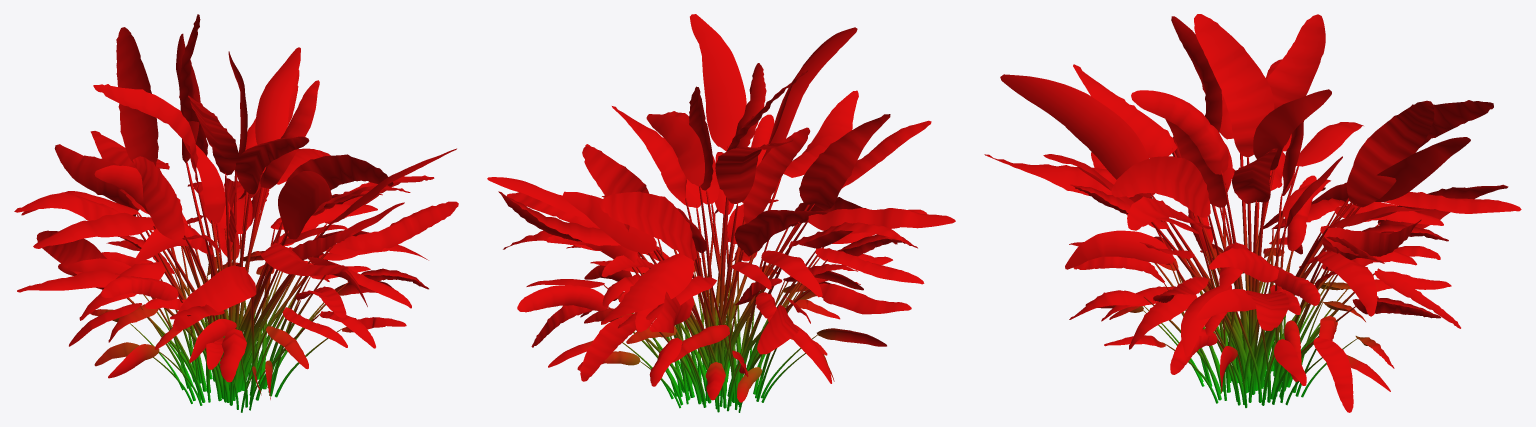
The model's file is Bird Of Paradise_LOD2_Var4_wfypeifha.fbx.
The picture shows the model from 3 angles, left to right: view 1: azimuth 30°, elevation 25°; view 2: azimuth 150°, elevation 25°; view 3: azimuth 270°, elevation 25°; orthographic projection. The views are drawn at different scales.
Visible parts, largest first — view 1: _9iir_Var4_LOD2; view 2: _9iir_Var4_LOD2; view 3: _9iir_Var4_LOD2.
Part boxes in pixels (left/top/right/bottom): _9iir_Var4_LOD2: left=14, top=14, right=458, bottom=412; _9iir_Var4_LOD2: left=487, top=14, right=955, bottom=412; _9iir_Var4_LOD2: left=984, top=14, right=1521, bottom=412.
Bounding box in the file's own units: 213 × 156 × 222.
